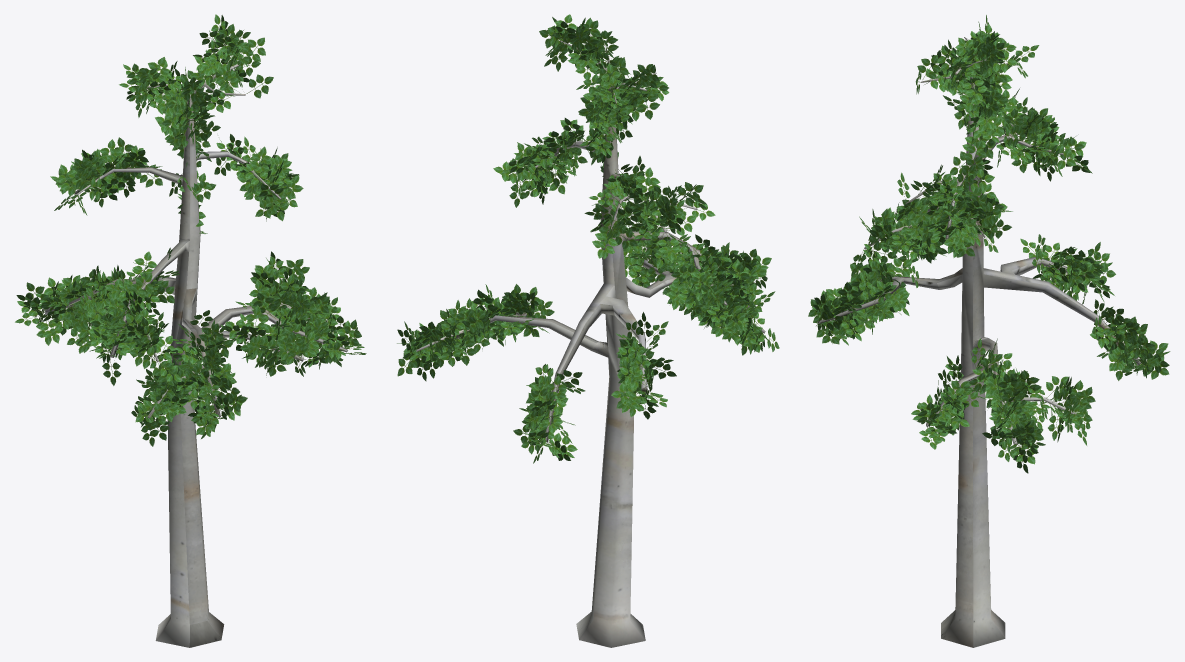
Rendered from birchTree1reimport.fbx.
3 renders of one model, left to right at view 1: azimuth 30°, elevation 25°; view 2: azimuth 150°, elevation 25°; view 3: azimuth 270°, elevation 25°, orthographic. The views are drawn at different scales.
Parts seen in each view (by area): view 1: Cube; view 2: Cube; view 3: Cube.
Boxes of the visible parts, x1=… form: Cube: x1=45, y1=44, x2=347, y2=647; Cube: x1=416, y1=40, x2=765, y2=647; Cube: x1=817, y1=37, x2=1140, y2=647.
Bounding box in the file's own units: 1330 × 2426 × 1291.
